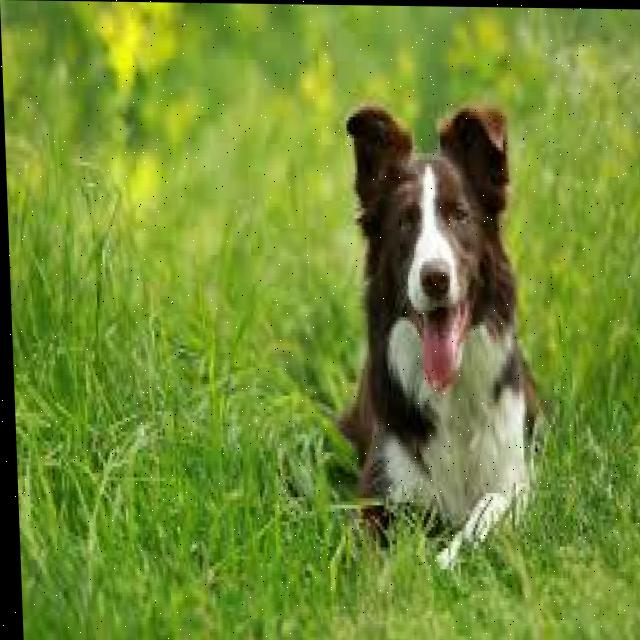ALASKAN_MALAMUTE: (285, 66, 562, 558)
